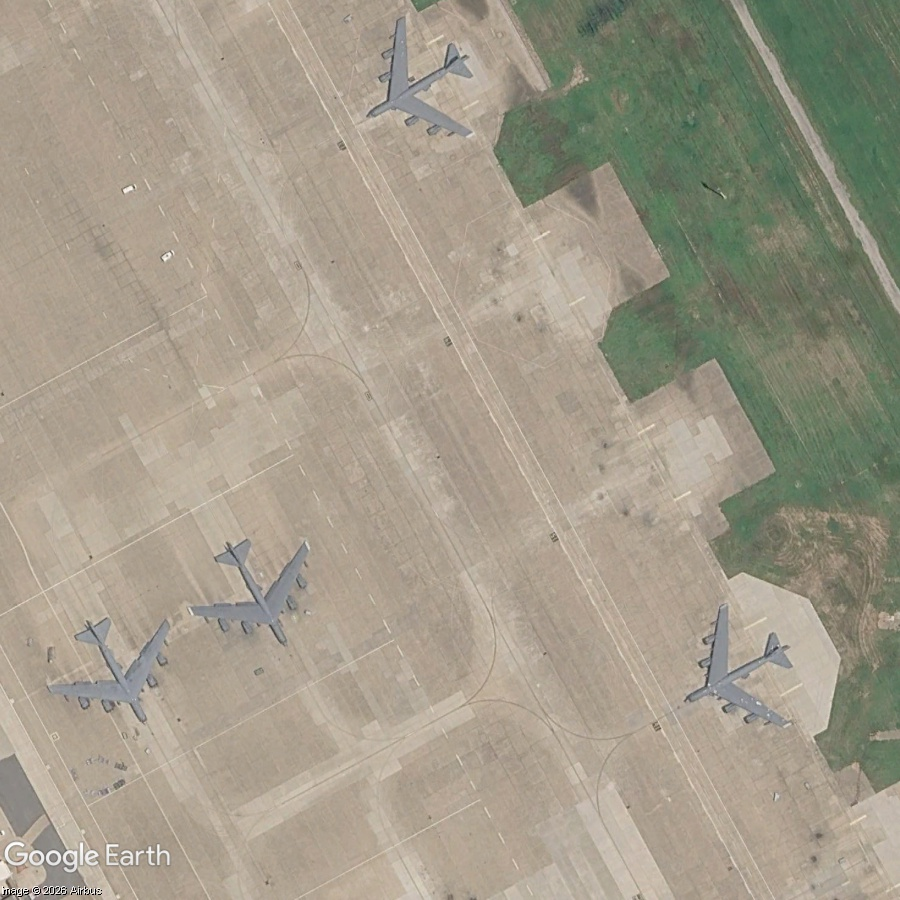Máy bay ném bom: (165, 503, 352, 685), (24, 581, 211, 761), (648, 582, 826, 767), (327, 0, 509, 180)
